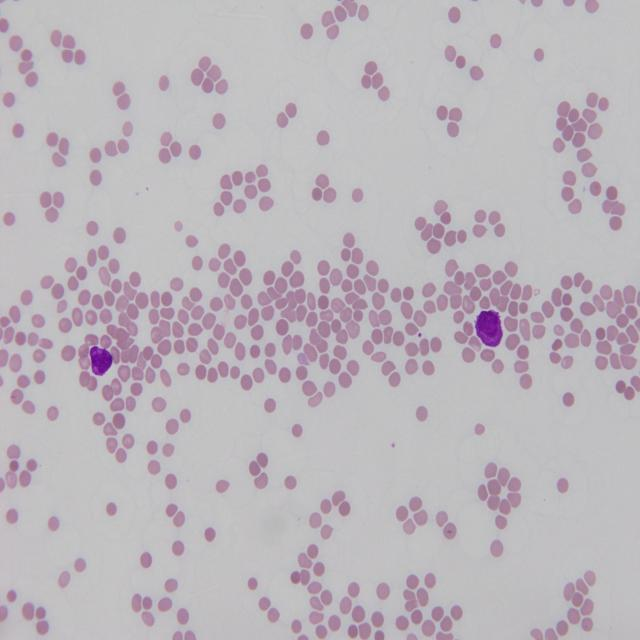cell: (475, 311, 502, 347), (90, 346, 112, 376)
